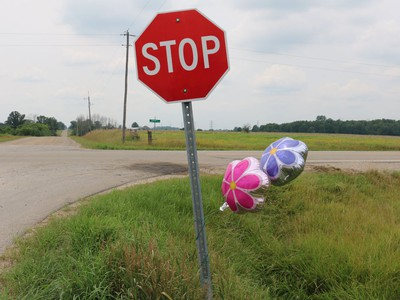stop: (138, 15, 224, 95)
